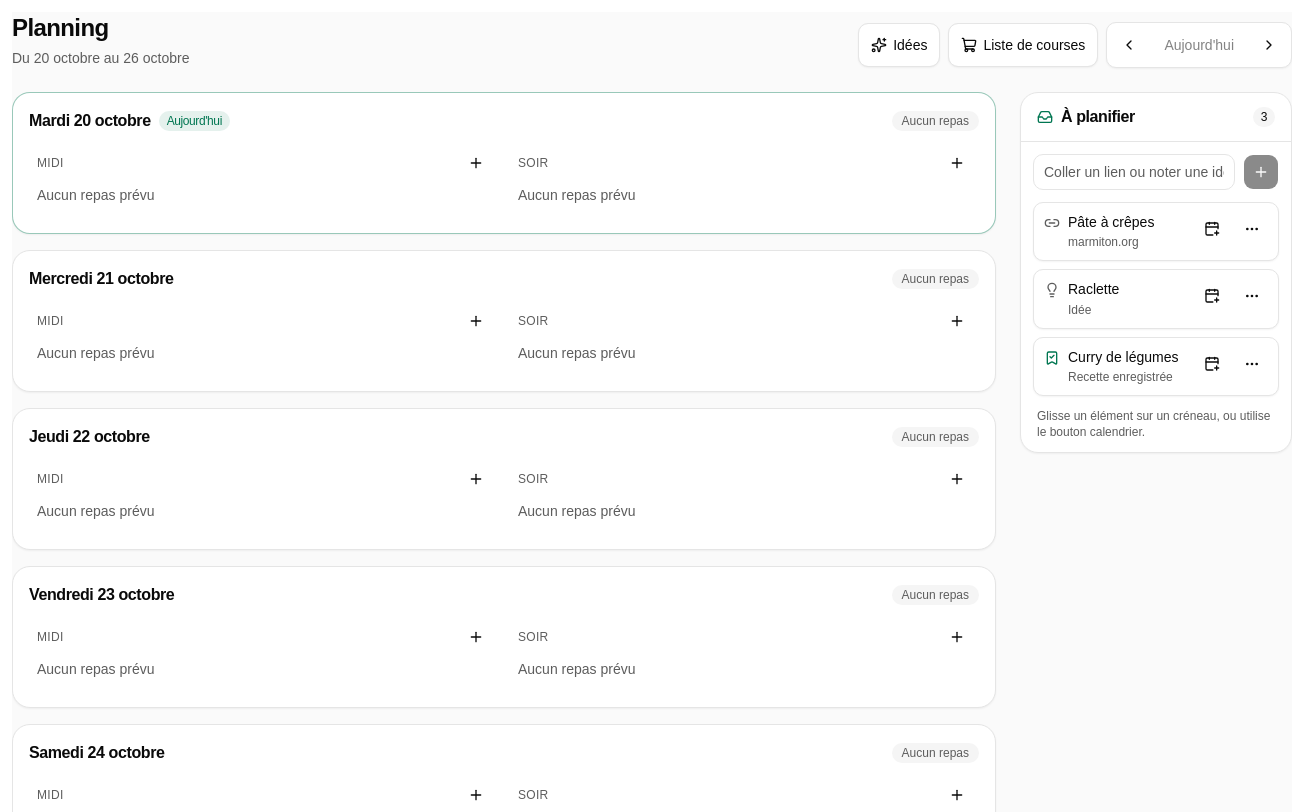
Scenario: PlanningPage — liste « À planifier » › se replie et se déplie (téléphone)
Click the button "À planifier 3" at (1098, 116), box [1021,93,1291,141]
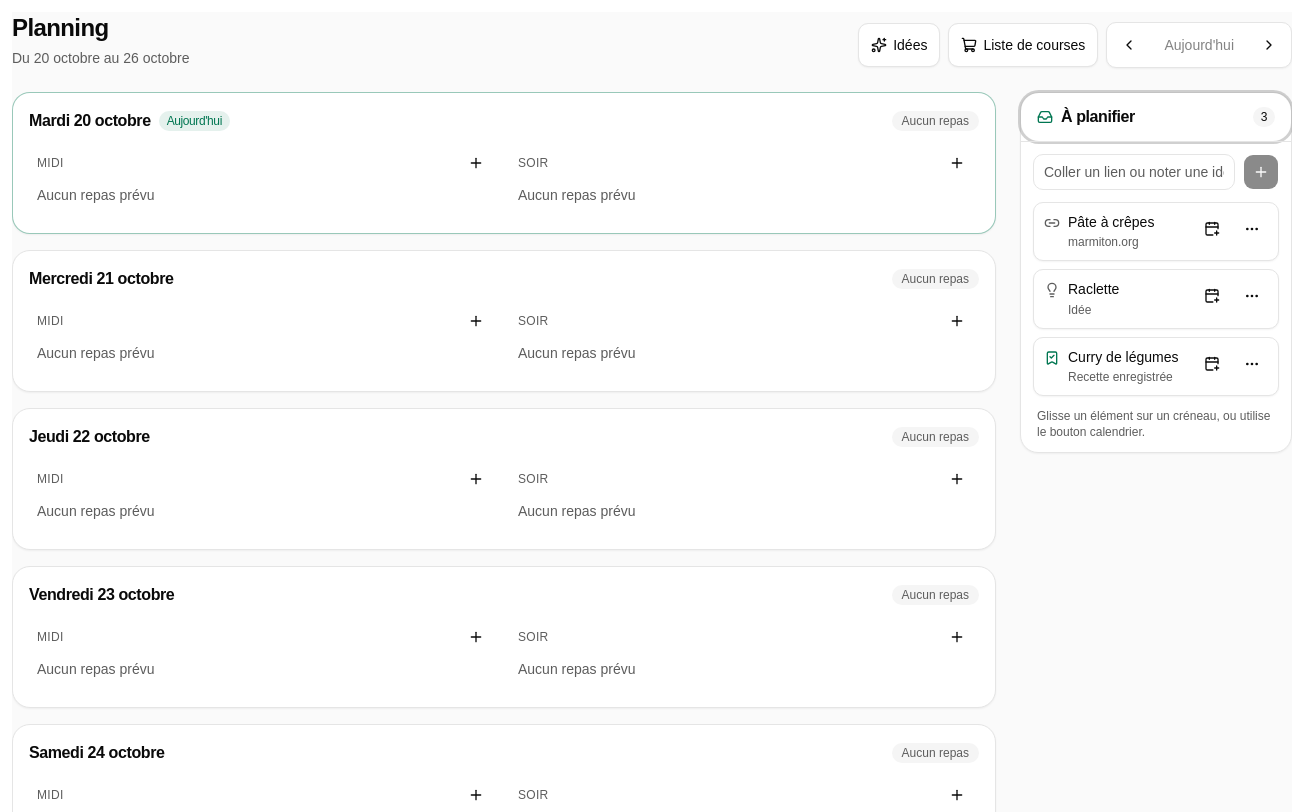
expect the button "À planifier 3" is expanded: met, box [1021,93,1291,141]
